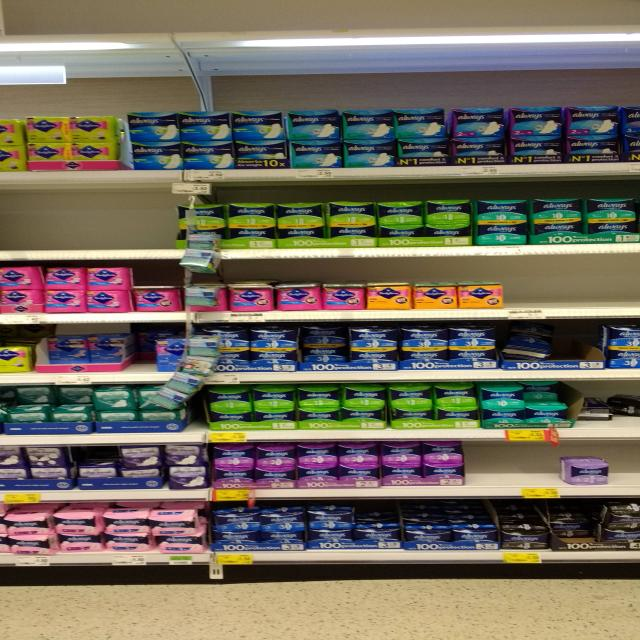empty: (1, 193, 182, 256), (510, 261, 640, 305), (462, 436, 562, 490)
